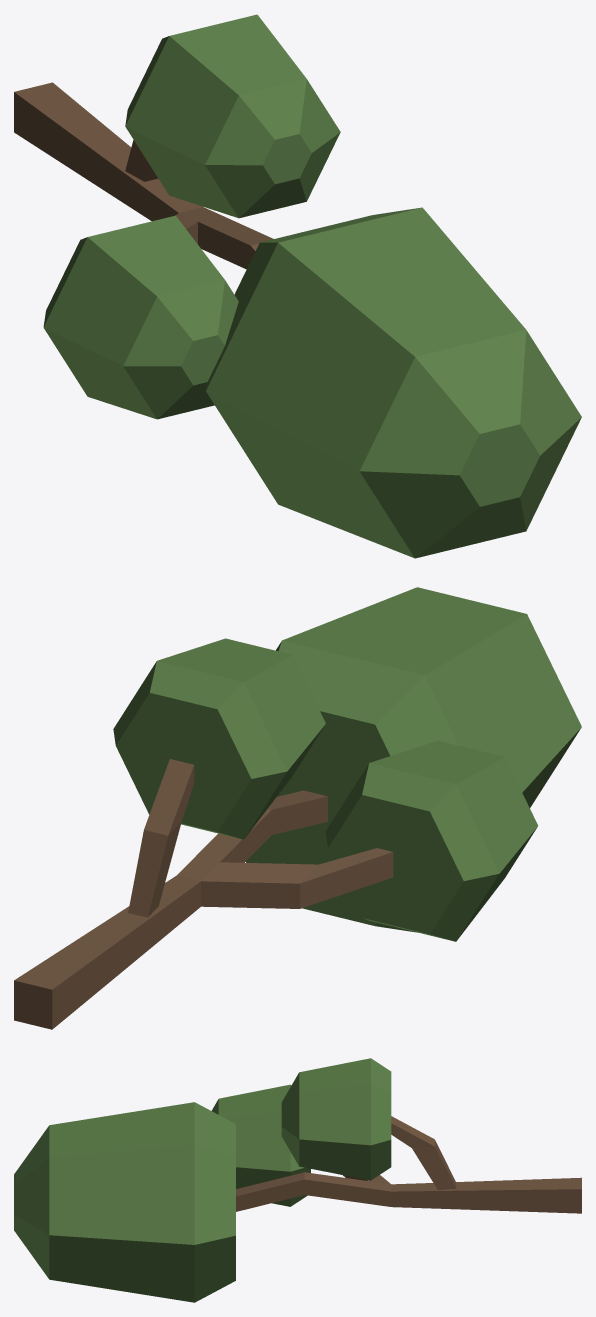
Rendered from tree-model-slender-22-ft.obj.
The picture shows the model from 3 angles, top to bottom: view 1: azimuth 30°, elevation 25°; view 2: azimuth 150°, elevation 25°; view 3: azimuth 270°, elevation 25°; orthographic projection. The views are drawn at different scales.
Visible parts, largest first — view 1: tree-model-slender-22-ft; view 2: tree-model-slender-22-ft; view 3: tree-model-slender-22-ft.
Boxes of the visible parts, bbox=[...] form: tree-model-slender-22-ft: bbox=[14, 14, 581, 558]; tree-model-slender-22-ft: bbox=[14, 587, 581, 1029]; tree-model-slender-22-ft: bbox=[14, 1058, 581, 1302].
Size of the model in its own units: 121 by 109 by 264.
